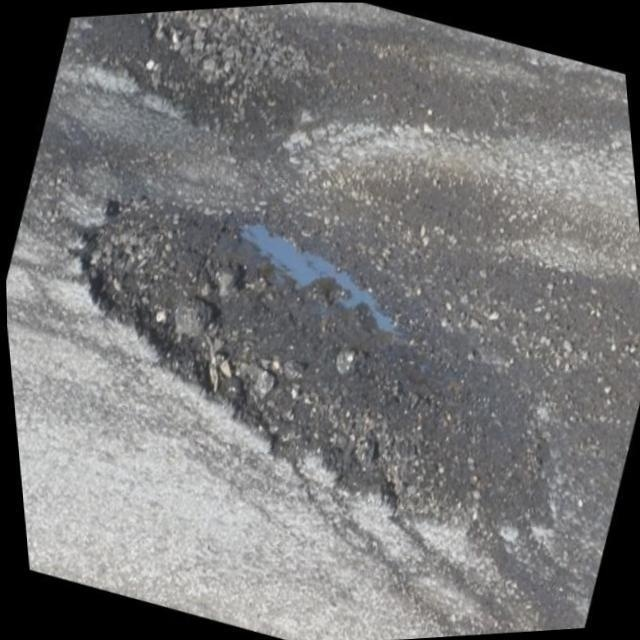pothole: (87, 226, 462, 495)
